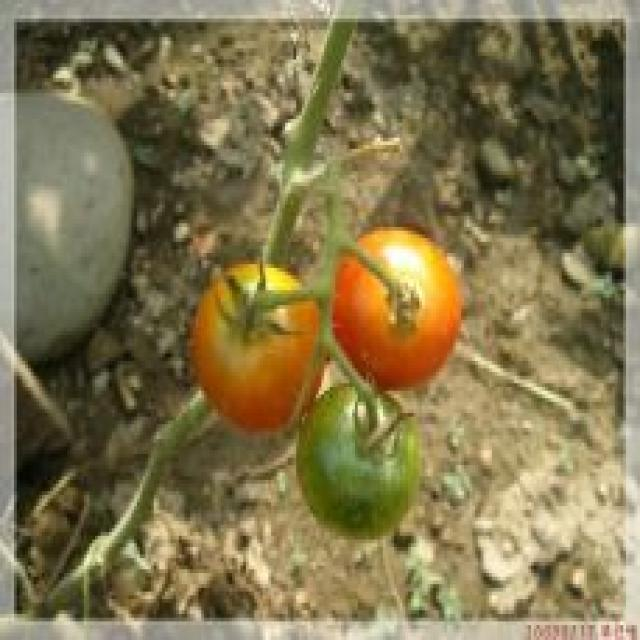level 1: (273, 373, 430, 557)
level 4: (173, 250, 323, 448), (322, 220, 470, 398)
